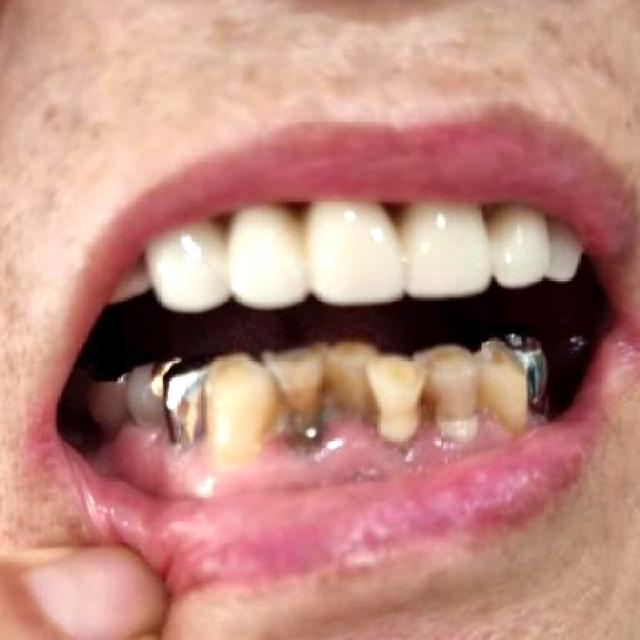Plaque: (266, 388, 346, 460)
